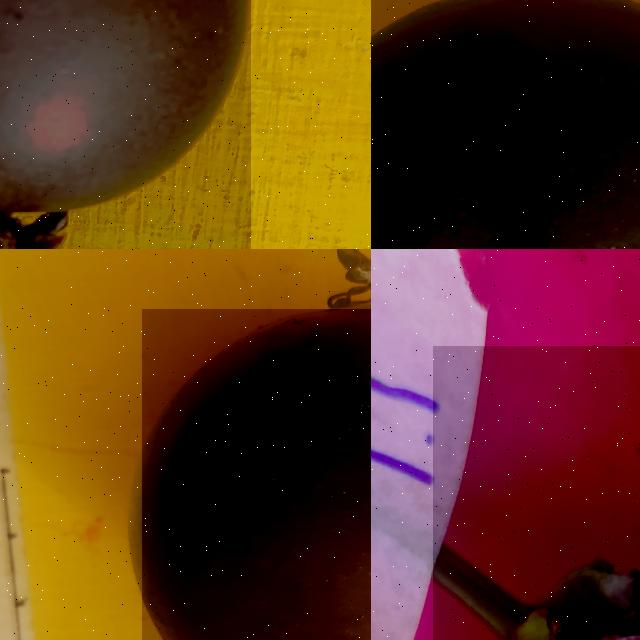Estado-5: (142, 310, 371, 640), (371, 0, 640, 249)
